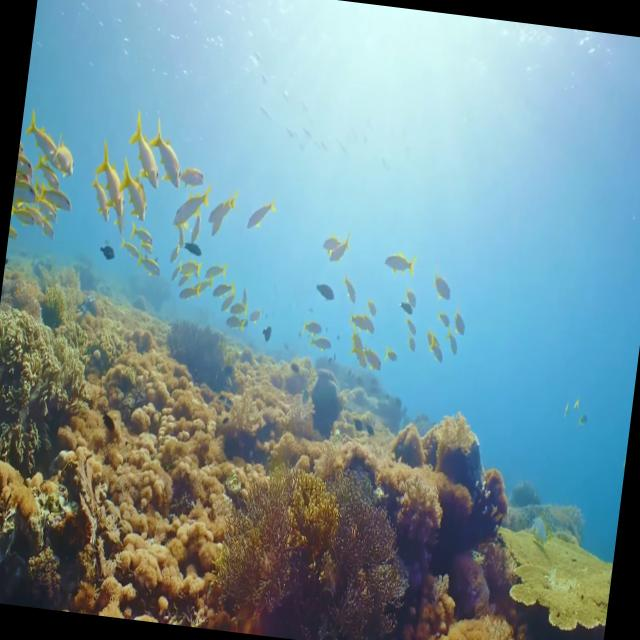fish: (124, 112, 168, 190), (144, 124, 188, 192), (170, 182, 213, 232)
